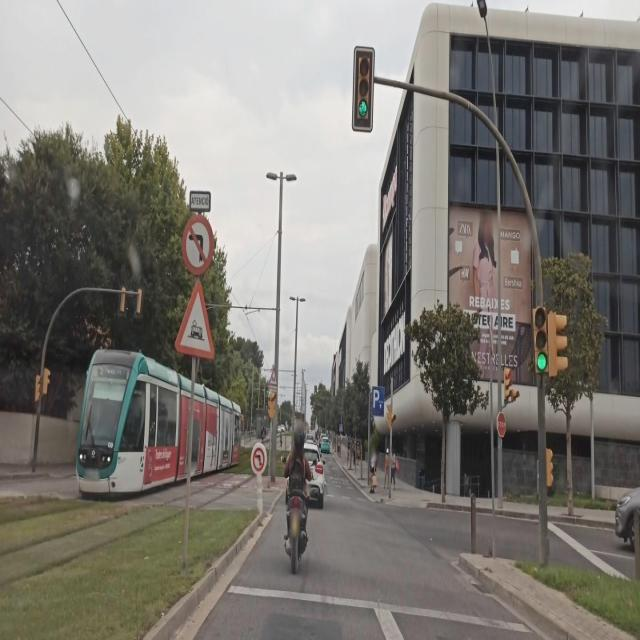bike: (284, 463, 312, 578)
car: (614, 474, 640, 554), (300, 445, 325, 507), (320, 436, 330, 455)
